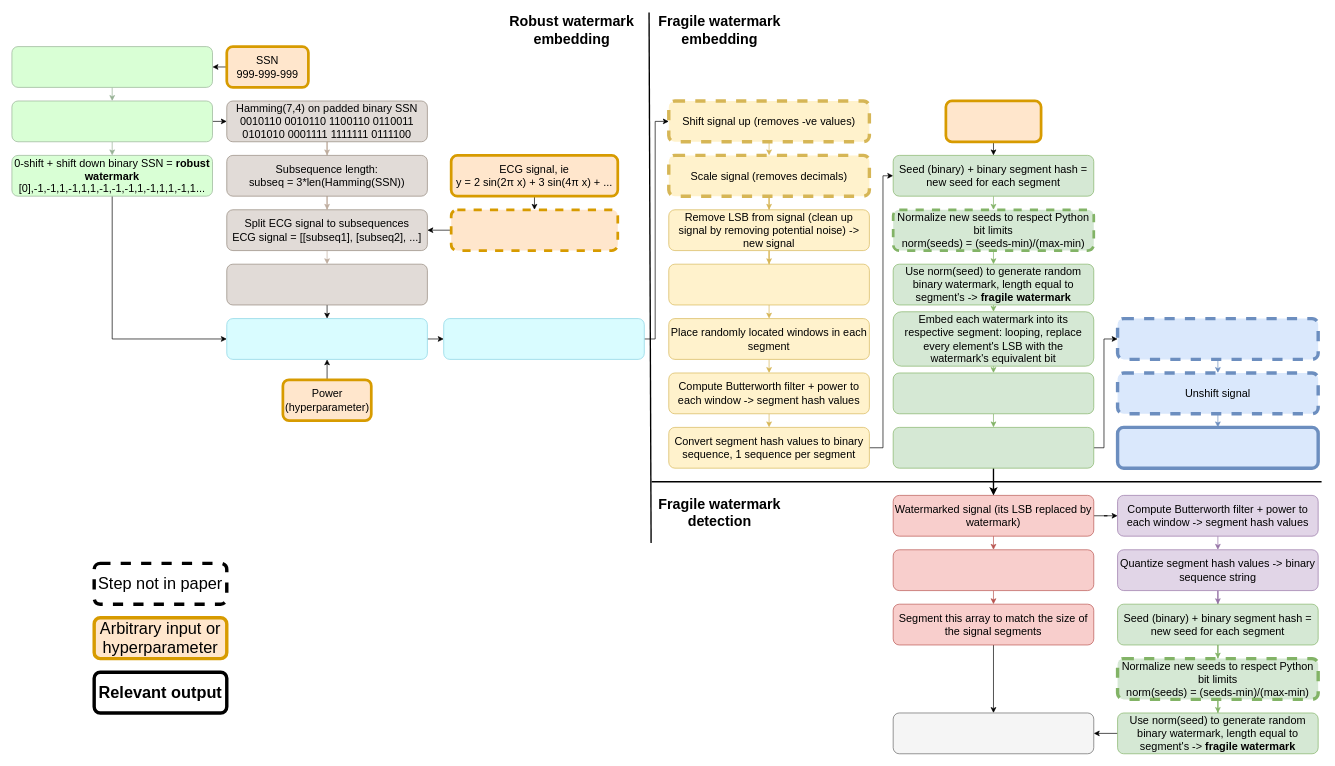
Image size: 1335x766. Some labels were removed from this diagram. The centre of each missing label's shape, as x and y in pixels:
Apply watermark to Fourier terms max(0, magnitude + power*watermark): (x=326, y=338)
Binary SSN (groups of 4) + 0-pad 1110 1110 0110 1011 0010 0111 1111 11(00): (x=112, y=121)
Binary SSN 111011100110101 100100111111111: (x=112, y=66)
Compute bit accuracy: (x=993, y=733)
Concatenate all segments -> fragile watermarked signal: (x=993, y=447)
Get Fourier terms of ECG subsequences magnitude, phase angle: (x=326, y=284)
Inverse Fourier of modified terms -> Robust watermarked series: (x=543, y=338)
Normalize dataset (if not ECG signal) norm(set) = (set-min)/(max-min): (x=534, y=230)
Output: watermarked signal: (x=1218, y=447)
Seed (hyperparameter): (x=993, y=121)
Signal with its LSB replaced by watermark: (x=993, y=393)
Split new signal to segments based on heartbeats: (x=768, y=284)
Store the LSBs of this signal, this is the extracted concatenated watermark: (x=993, y=570)
Unscale signal: (x=1218, y=339)
